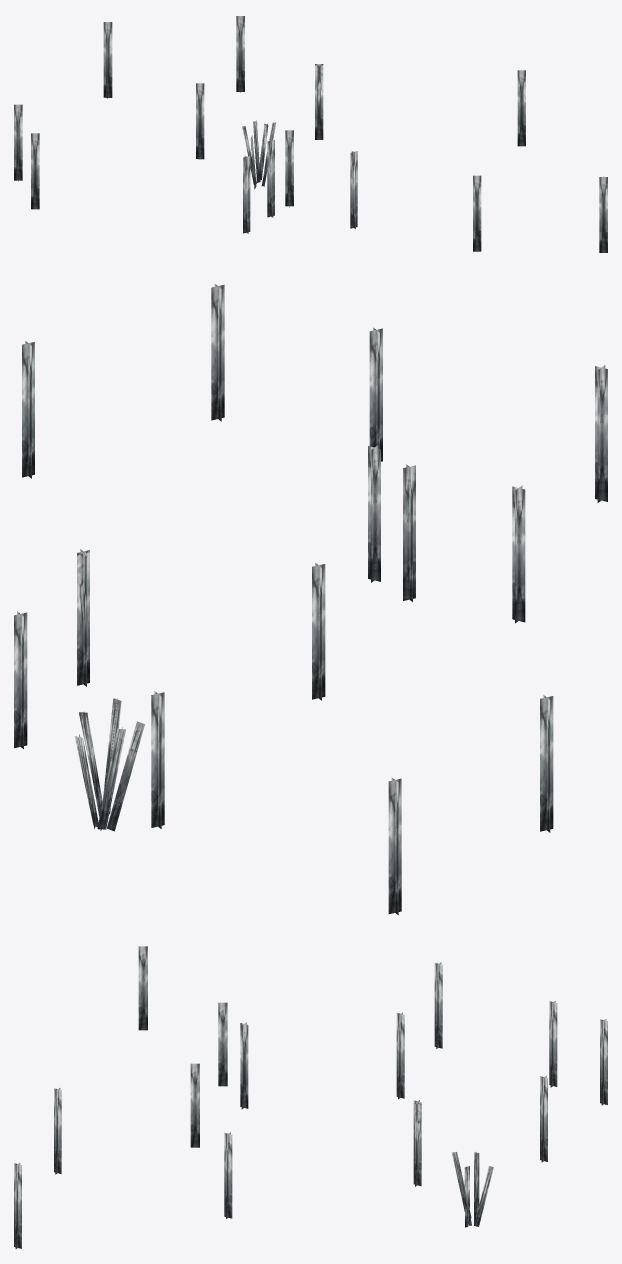
The picture shows the model from 3 angles, top to bottom: view 1: azimuth 30°, elevation 25°; view 2: azimuth 150°, elevation 25°; view 3: azimuth 270°, elevation 25°; orthographic projection. The views are drawn at different scales.
Visible parts, largest first — view 1: mesh0; view 2: mesh0; view 3: mesh0.
Part boxes in pixels (left/top/right/bottom): mesh0: left=14, top=16, right=607, bottom=252; mesh0: left=14, top=284, right=607, bottom=915; mesh0: left=14, top=946, right=607, bottom=1248.
Bounding box in the file's own units: 1077 × 490 × 1261.
